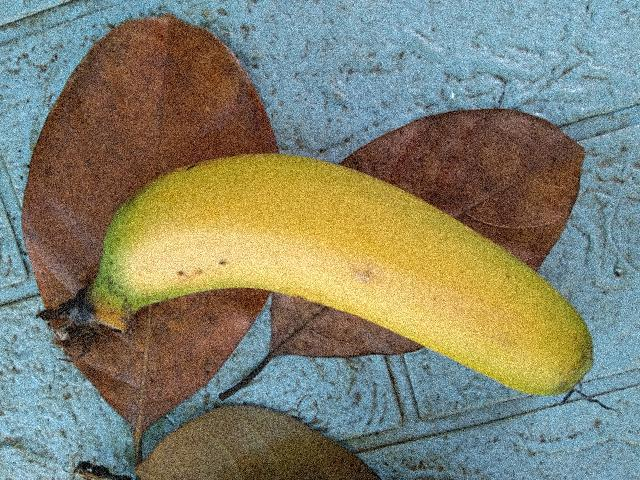freshripe: (69, 128, 601, 430)
